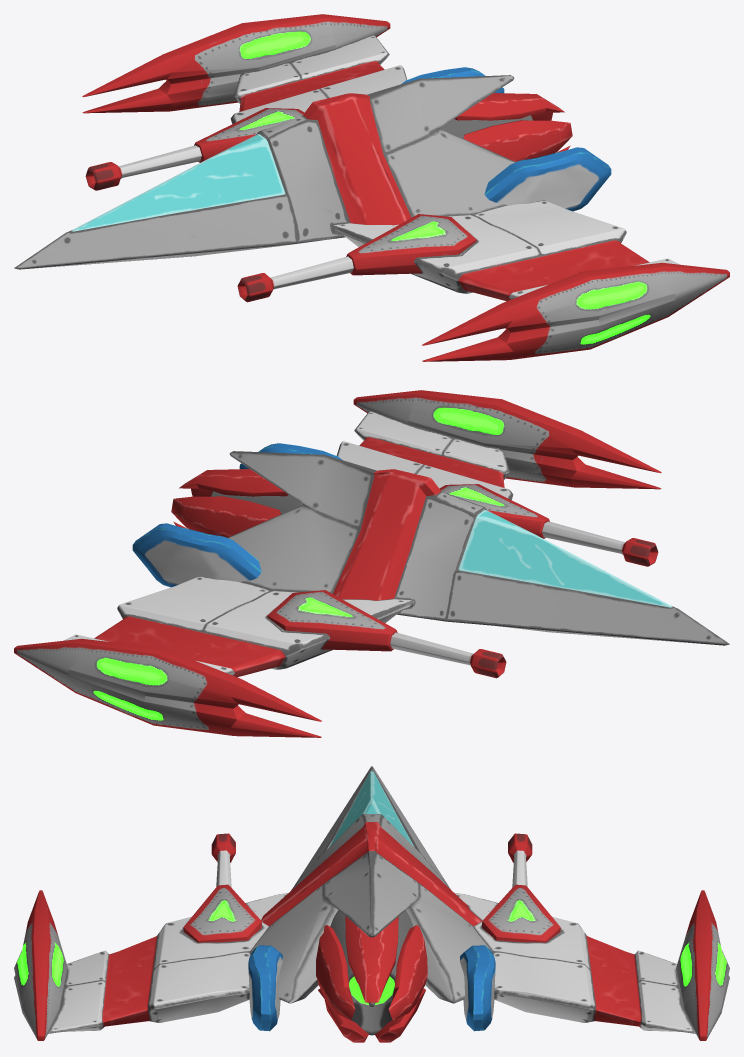
Rendered from GalagaPlayerShip_v2.fbx.
3 renders of one model, top to bottom at view 1: azimuth 30°, elevation 25°; view 2: azimuth 150°, elevation 25°; view 3: azimuth 270°, elevation 25°, orthographic. The views are drawn at different scales.
Parts seen in each view (by area): view 1: PlayerShipv2; view 2: PlayerShipv2; view 3: PlayerShipv2.
Boxes of the visible parts, x1,y1,x2,y2 form: PlayerShipv2: (14, 14, 729, 361); PlayerShipv2: (14, 390, 729, 737); PlayerShipv2: (14, 766, 729, 1042).
Bounding box in the file's own units: 1192 × 299 × 1384.
Materials: 1 (1 with a texture image).
